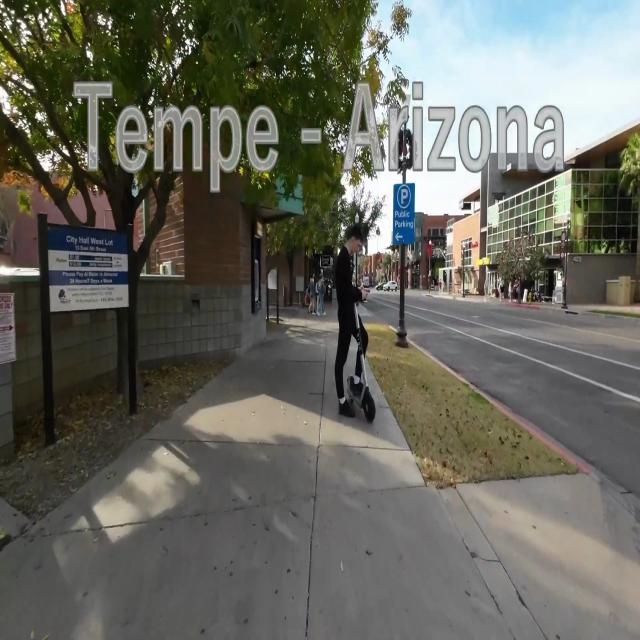road: (386, 292, 640, 501)
side walk: (0, 322, 640, 639)
